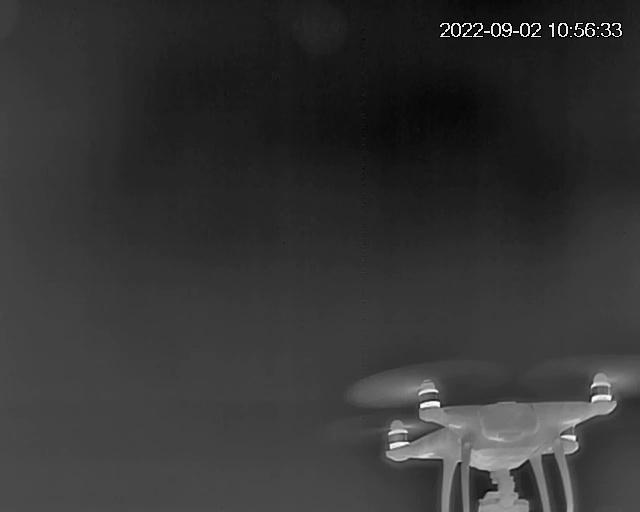DJI-Phantom: (359, 369, 640, 512)
